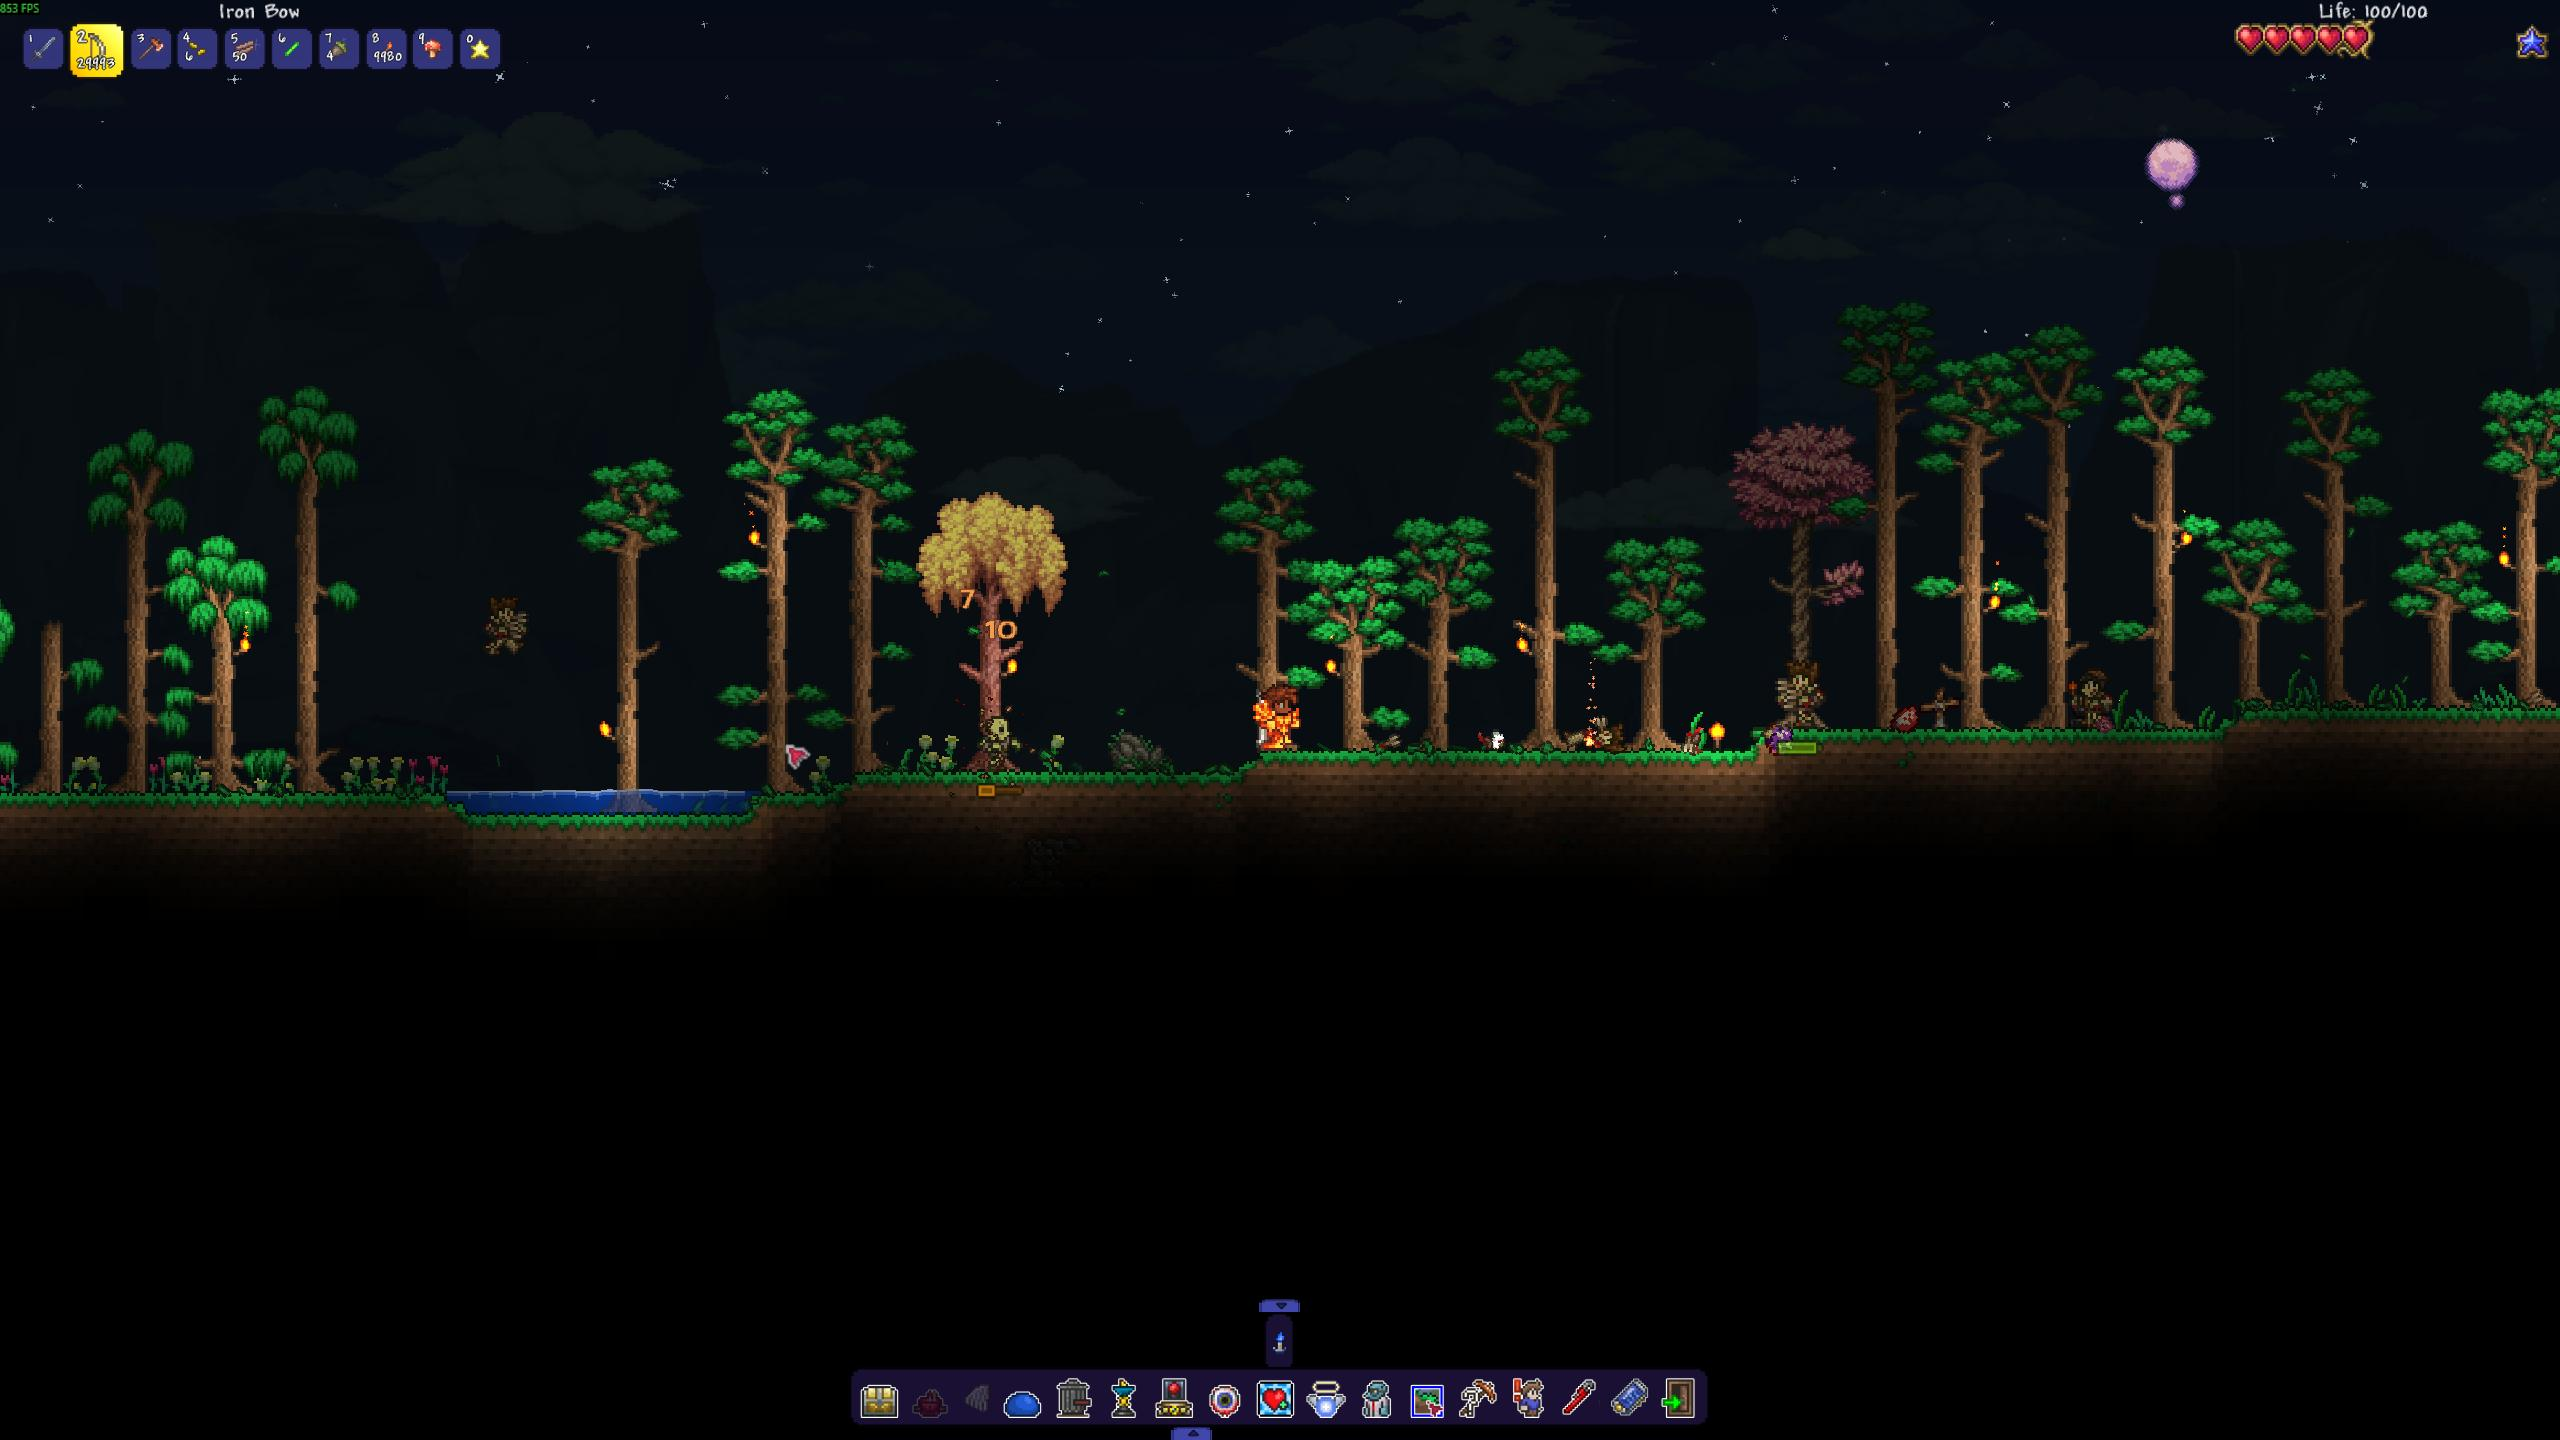Zombie: (2061, 656, 2120, 730), (478, 589, 535, 658), (1772, 658, 1825, 724), (974, 707, 1020, 768)
